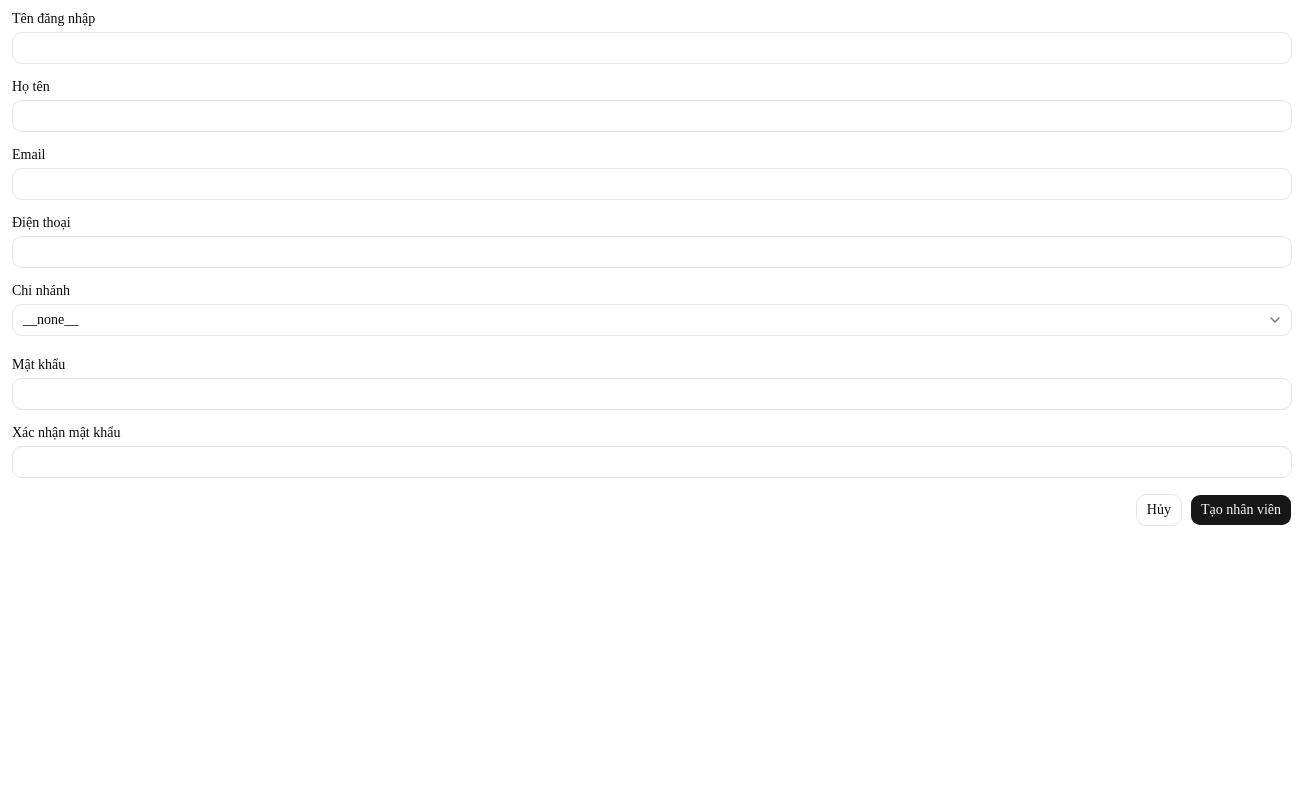
it: UserCreateForm (T052.02C) › rejects a password shorter than 8 characters
This screenshot has width=1304, height=812.
Type "staff01" into the field labelled "Tên đăng nhập" at [652, 48], box x1=12 y1=32 x2=1292 y2=64
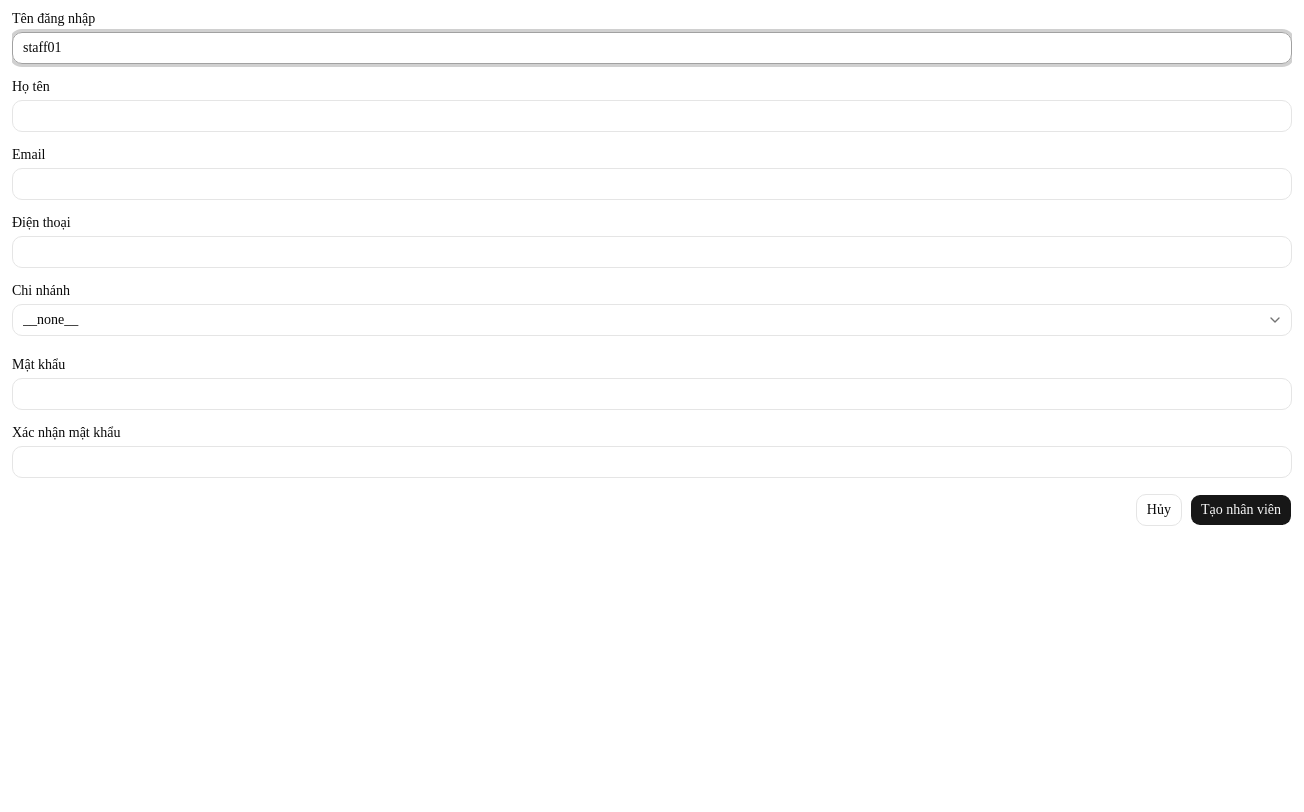
Type "staff01@acme.test" into the field labelled "Email" at [652, 184], box x1=12 y1=168 x2=1292 y2=200
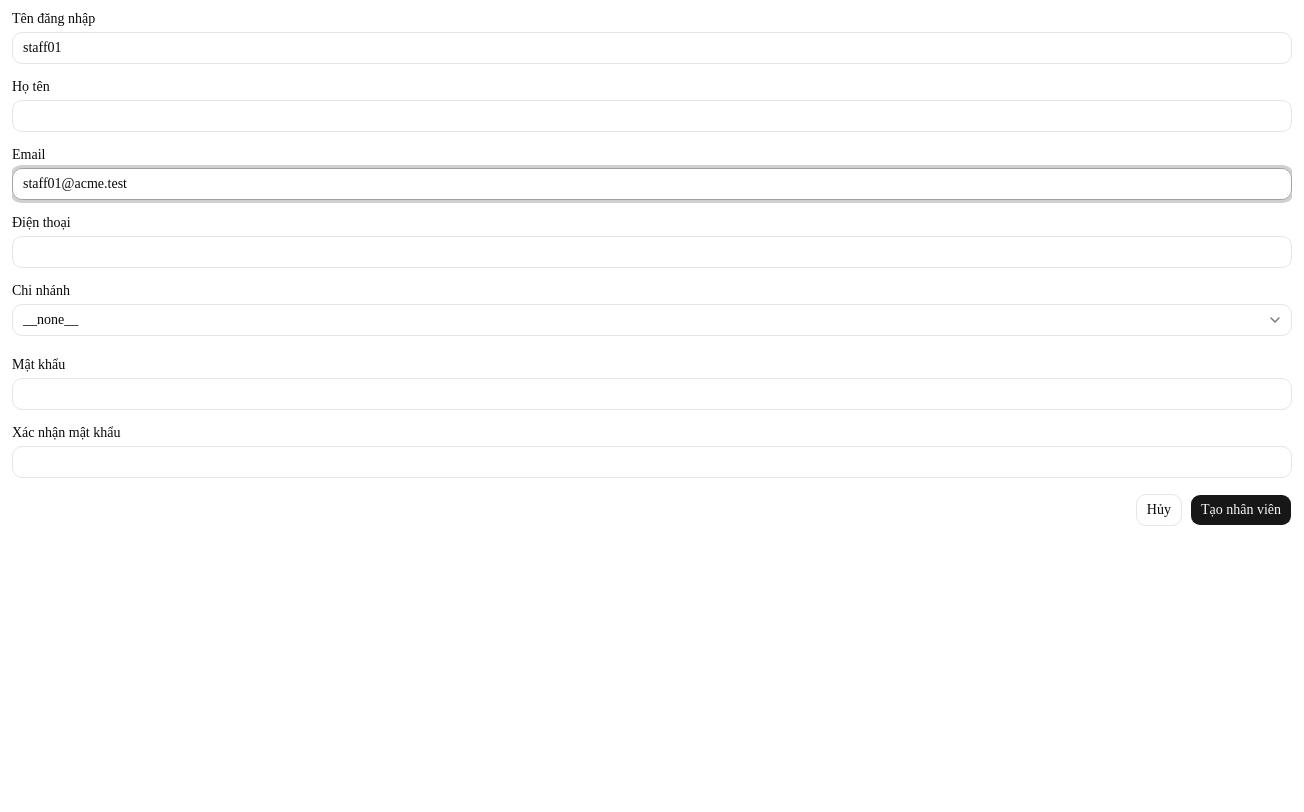
Type "short1" into the password field labelled "Mật khẩu" at [652, 394], box x1=12 y1=378 x2=1292 y2=410
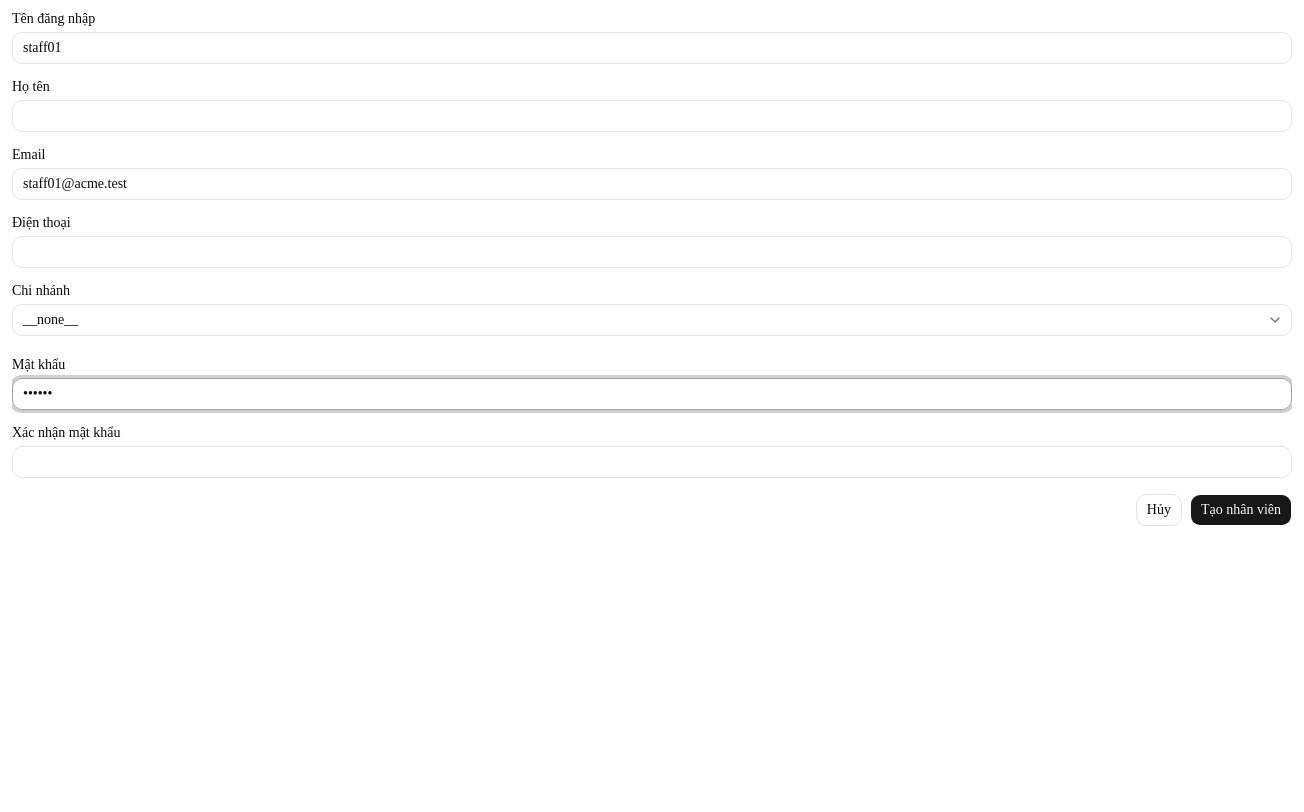
Type "short1" into the password field labelled "Xác nhận mật khẩu" at [652, 462], box x1=12 y1=446 x2=1292 y2=478
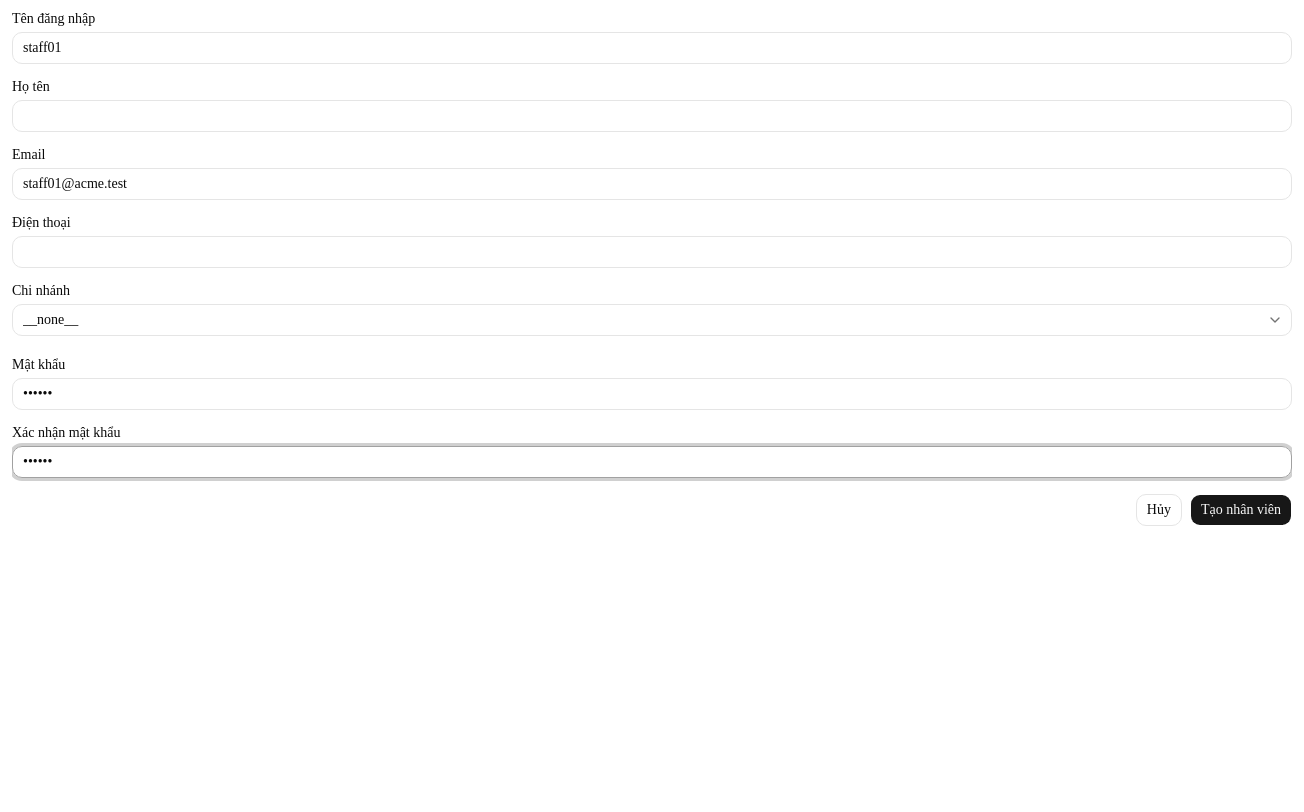
Click the button "Tạo nhân viên" at [1241, 510], box x1=1190 y1=494 x2=1292 y2=526
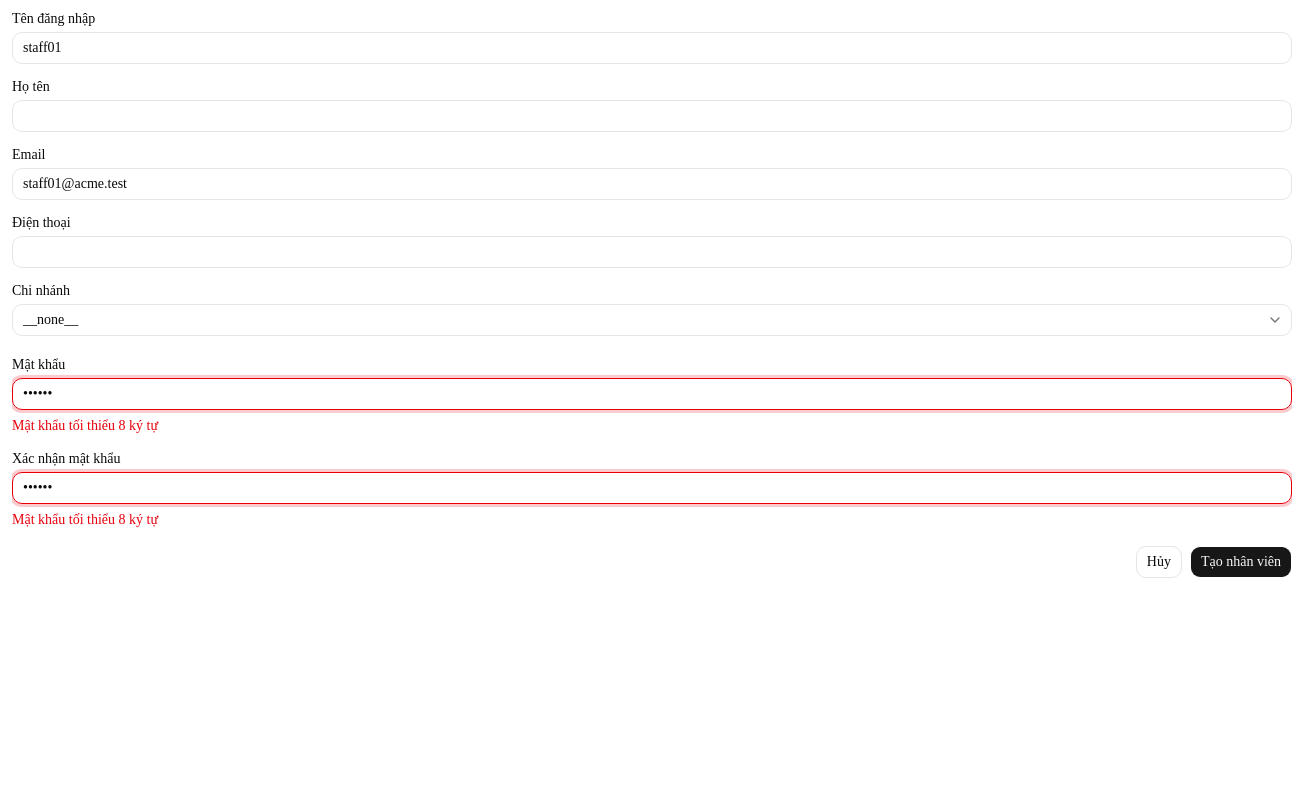
Expected: the 1st text "Mật khẩu tối thiểu 8 ký tự" is shown, x1=12 y1=418 x2=158 y2=433
